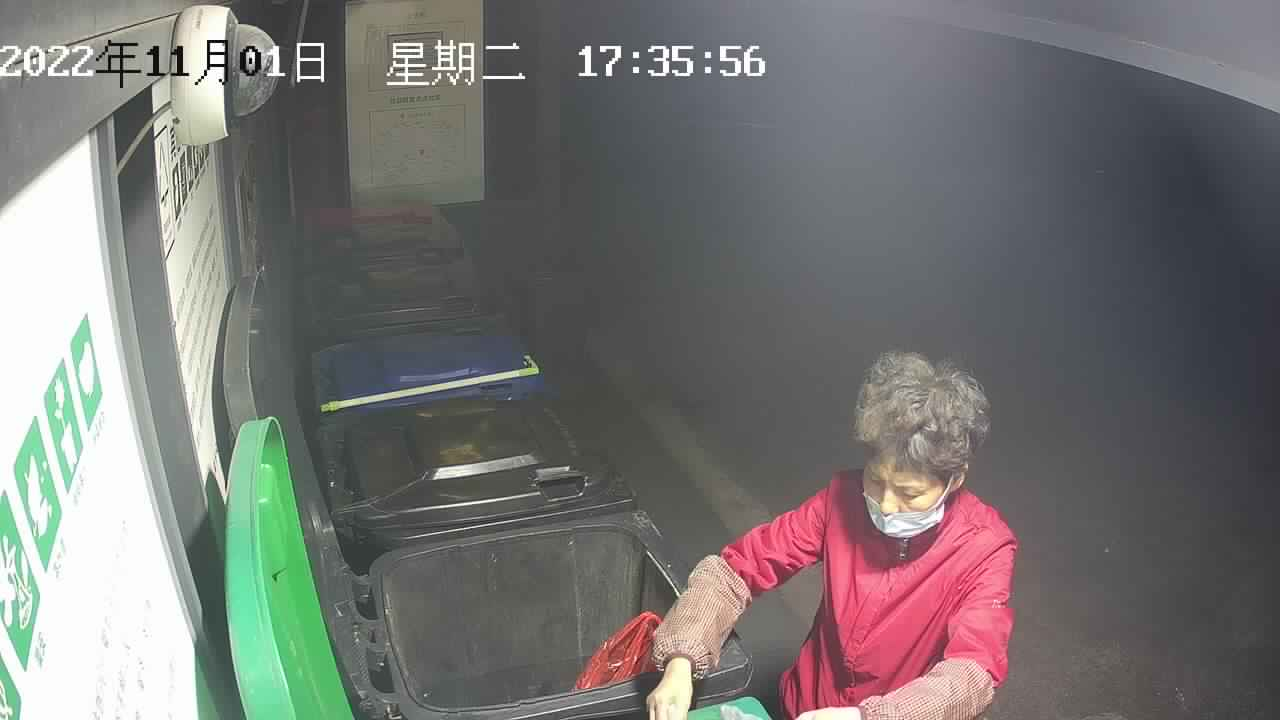person: (643, 349, 1018, 720)
